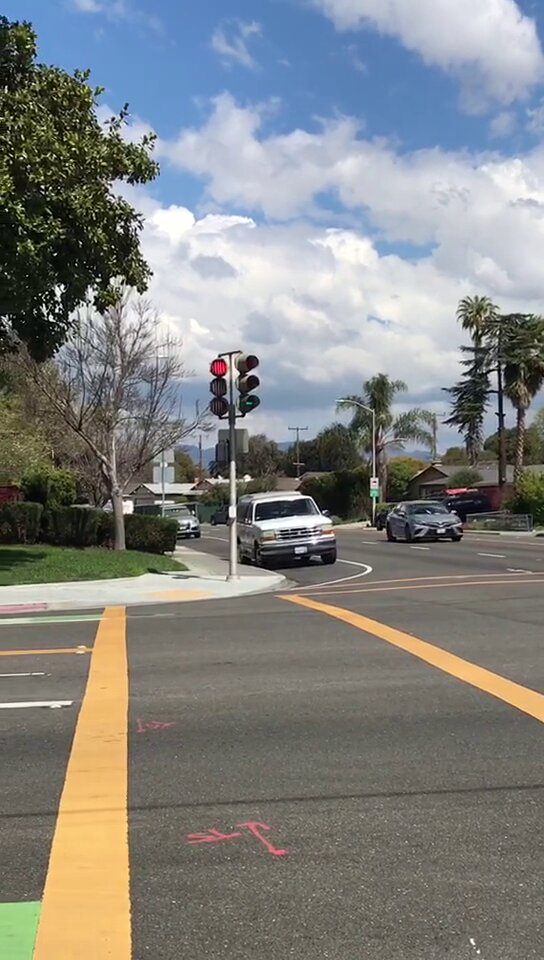red_light: (210, 358, 229, 416)
